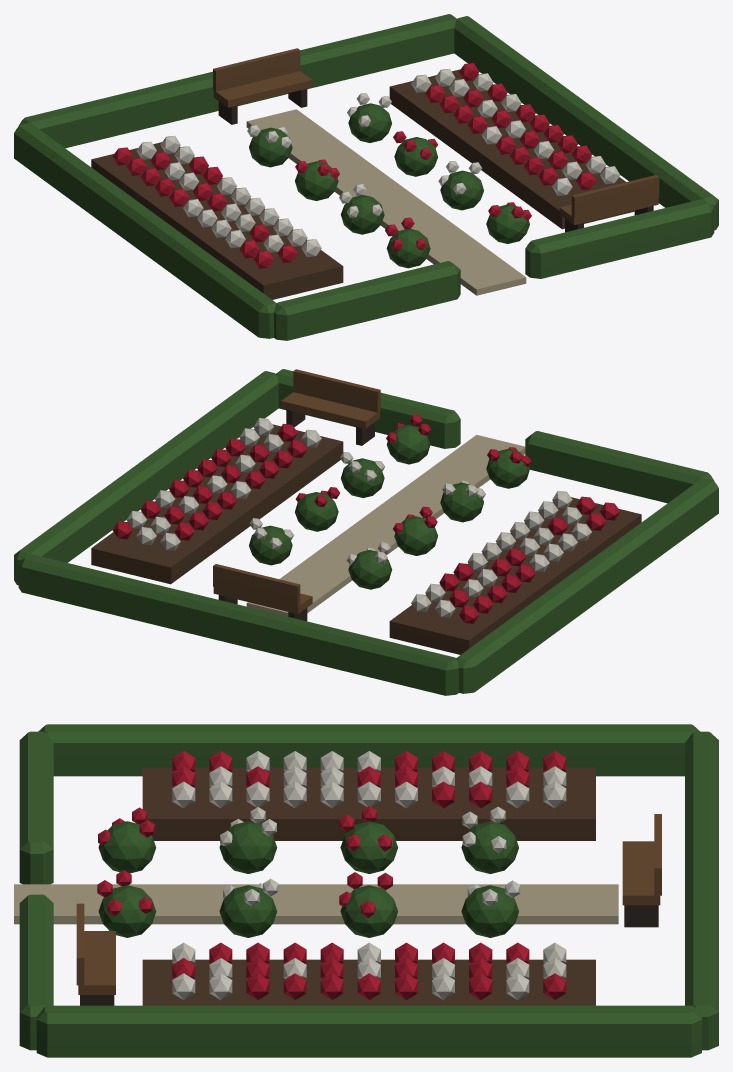
File: rosegarden.glb
3 renders of one model, top to bottom at view 1: azimuth 30°, elevation 25°; view 2: azimuth 150°, elevation 25°; view 3: azimuth 270°, elevation 25°, orthographic. The views are drawn at different scales.
Parts seen in each view (by area): view 1: rosegarden_model; view 2: rosegarden_model; view 3: rosegarden_model.
Part boxes in pixels (x1,y1,x2,y2): rosegarden_model: (14, 14, 718, 340); rosegarden_model: (14, 369, 718, 695); rosegarden_model: (14, 724, 718, 1057).
Size of the model in its own units: 0.925 by 0.102 by 0.9325.
